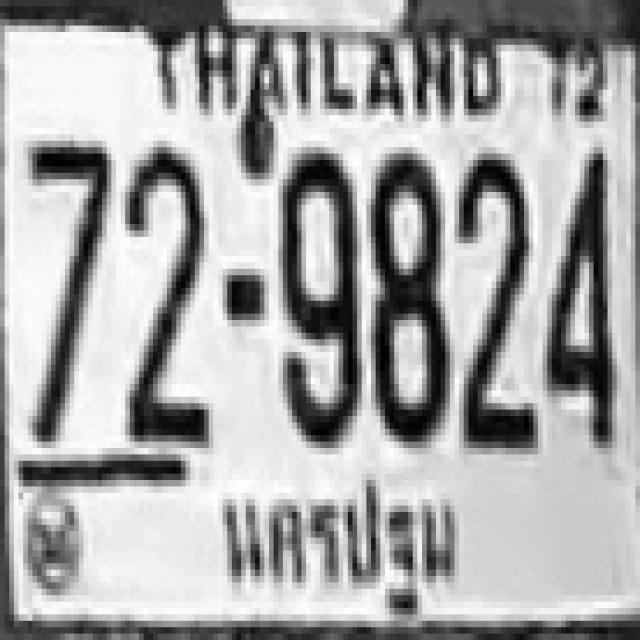2: (121, 179, 204, 442), (120, 140, 200, 410), (452, 148, 526, 422), (452, 147, 526, 397)
4: (543, 147, 612, 442), (542, 147, 608, 390)
7: (23, 138, 107, 432), (23, 134, 107, 358)
8: (366, 147, 446, 435)
9: (278, 147, 357, 442)
NakhonPathom: (209, 471, 472, 626)
